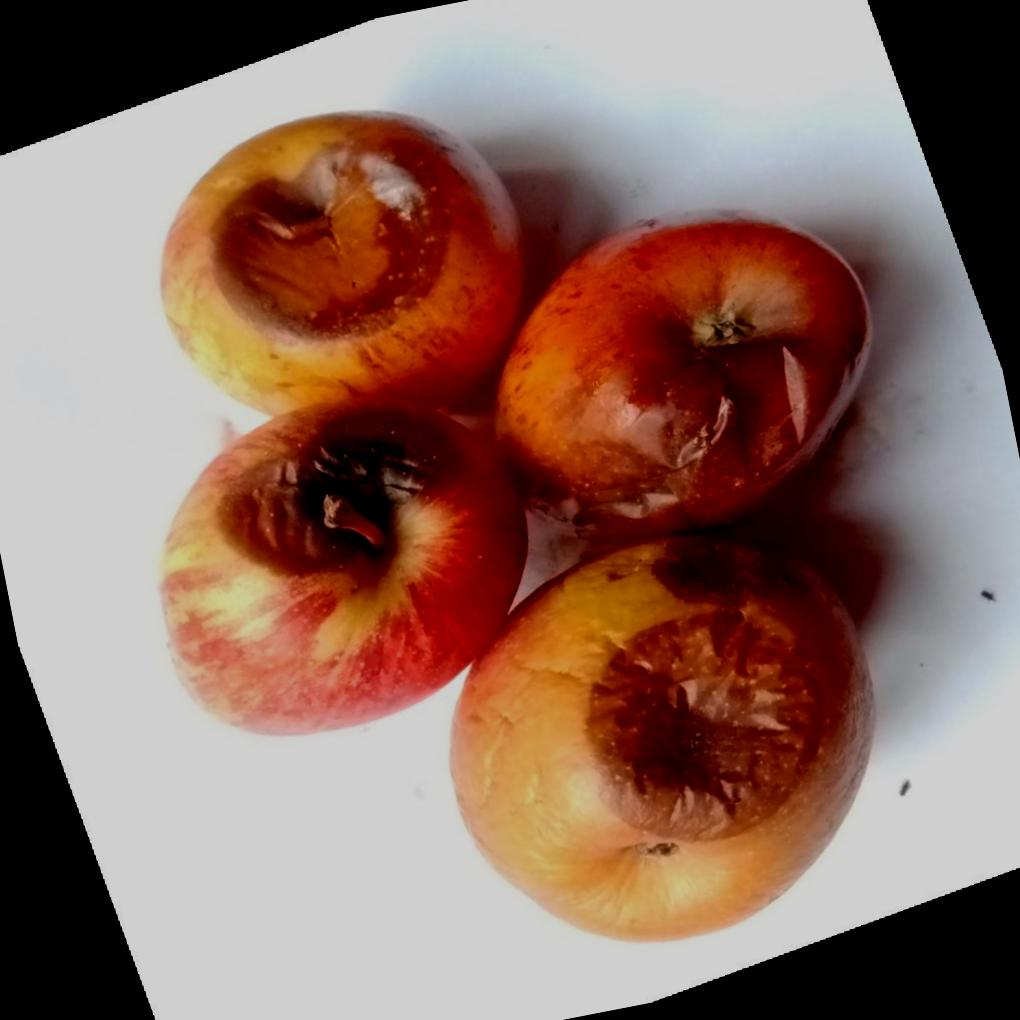FreshOrange: (156, 108, 874, 939)
